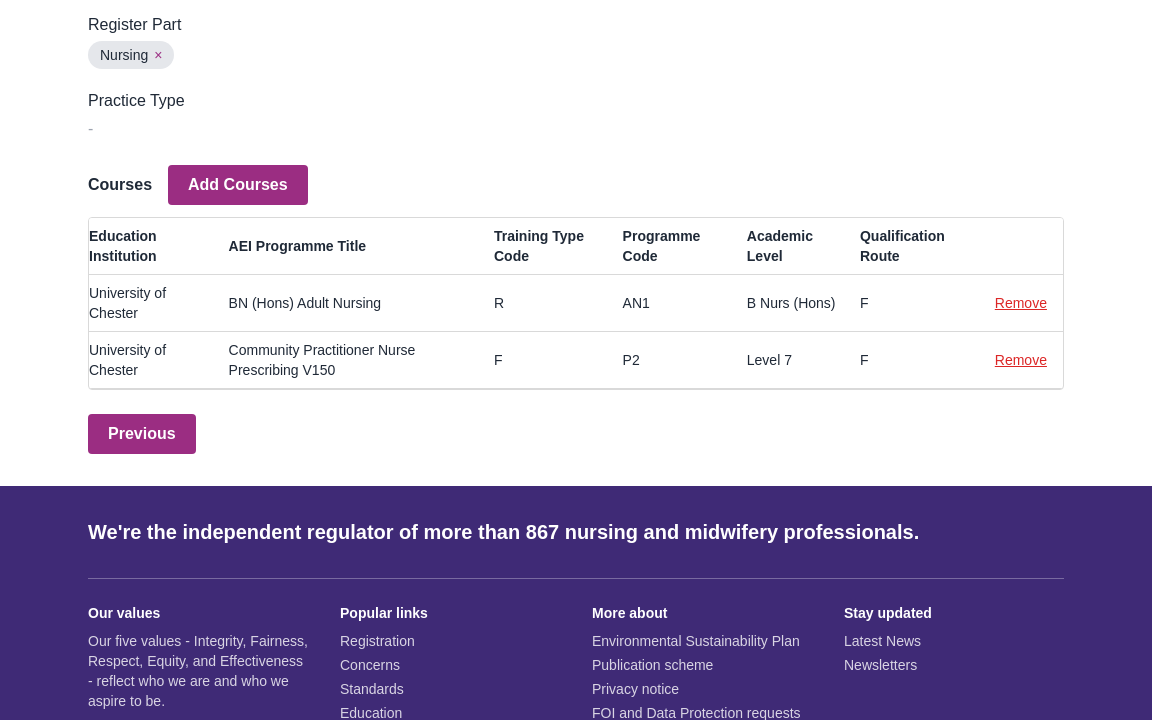
Test: ViewDetailsPage › removes a course and drops back to a hidden Remove control once only one is left
(page scrolled)
What coordinates should you click on to do the following:
click the button "Remove" in the row of "P2"
I would click on:
 (1021, 360)
Its box is x1=995 y1=350 x2=1047 y2=370.
(page scrolled)
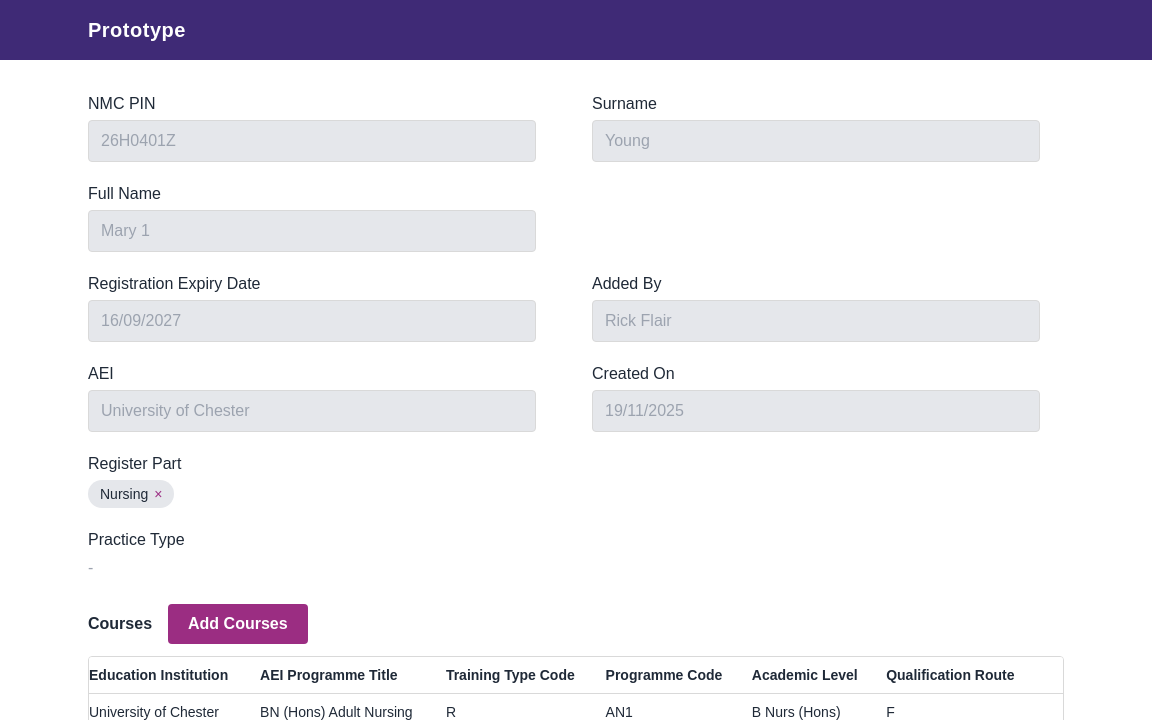
Check: the text "26H0401Z" is shown, box x1=88 y1=120 x2=536 y2=162
Check: the button "Remove" is gone
